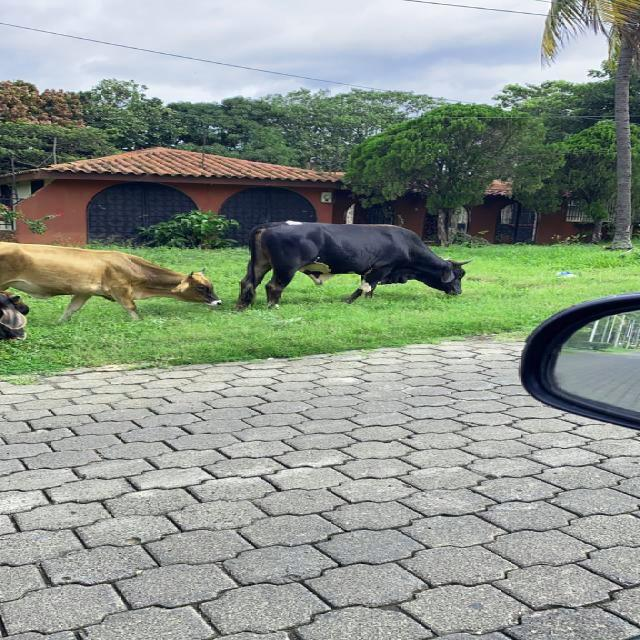cow: (236, 221, 465, 309), (0, 242, 220, 321)
